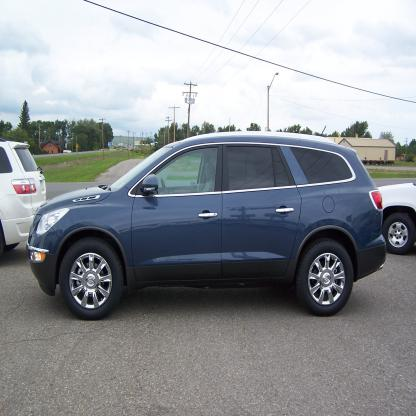Vehicle: (24, 128, 388, 320)
